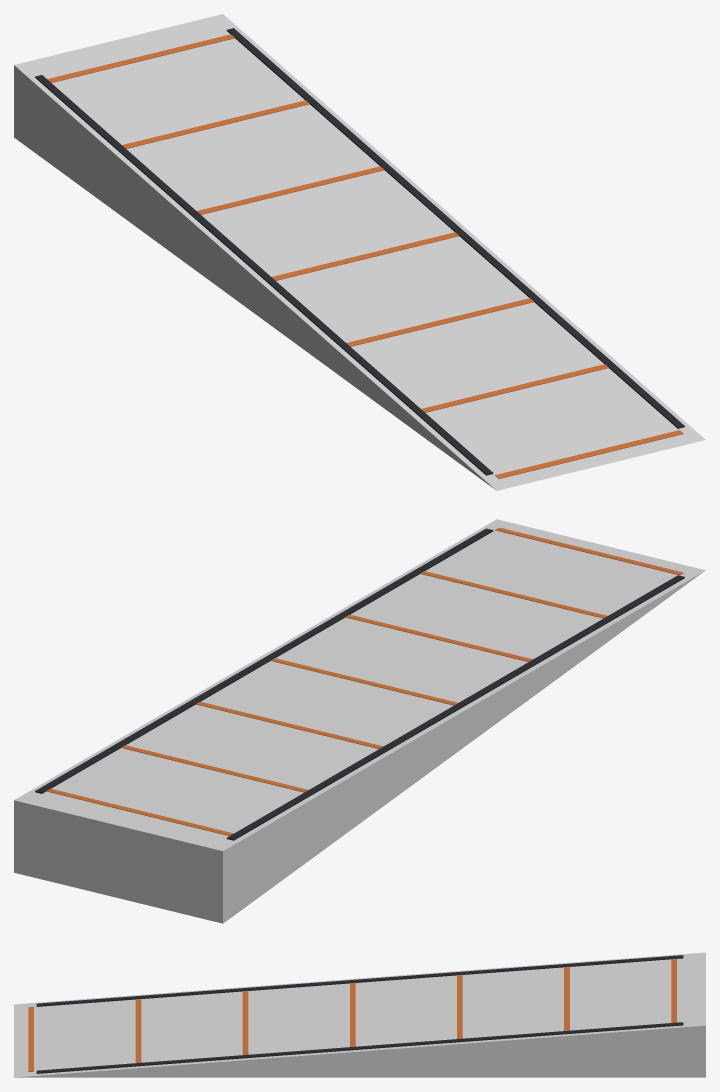
The model's file is ramp-accessible.glb.
The picture shows the model from 3 angles, top to bottom: view 1: azimuth 30°, elevation 25°; view 2: azimuth 150°, elevation 25°; view 3: azimuth 270°, elevation 25°; orthographic projection. The views are drawn at different scales.
Parts seen in each view (by area): view 1: ramp-accessible.tint, ramp-accessible.graphite, ramp-accessible.accent; view 2: ramp-accessible.tint, ramp-accessible.graphite, ramp-accessible.accent; view 3: ramp-accessible.tint, ramp-accessible.graphite, ramp-accessible.accent.
Part boxes in pixels (<box>): ramp-accessible.tint: <box>14,14,705,490</box>; ramp-accessible.graphite: <box>35,28,684,475</box>; ramp-accessible.accent: <box>47,34,683,478</box>; ramp-accessible.tint: <box>14,519,705,923</box>; ramp-accessible.graphite: <box>35,528,684,840</box>; ramp-accessible.accent: <box>46,527,683,835</box>; ramp-accessible.tint: <box>14,952,705,1077</box>; ramp-accessible.graphite: <box>36,955,683,1073</box>; ramp-accessible.accent: <box>28,958,676,1071</box>.
Bounding box in the file's own units: 1.2 × 0.4 × 4.8.
